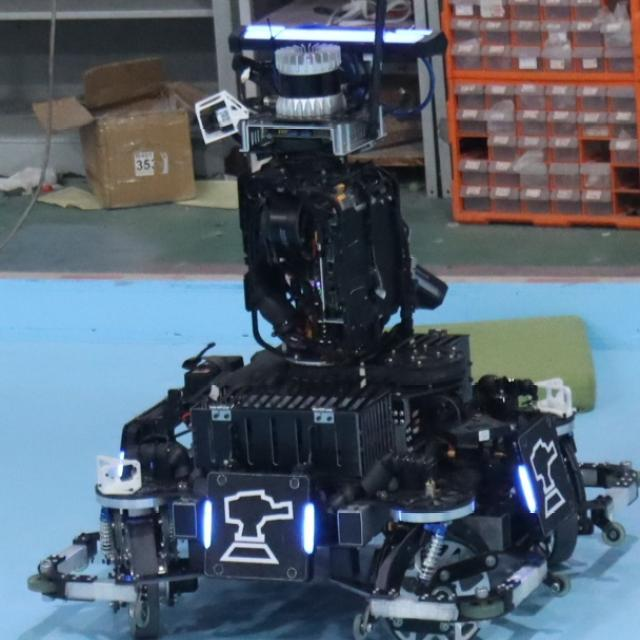Bs: (200, 482, 317, 572), (517, 432, 575, 519)
